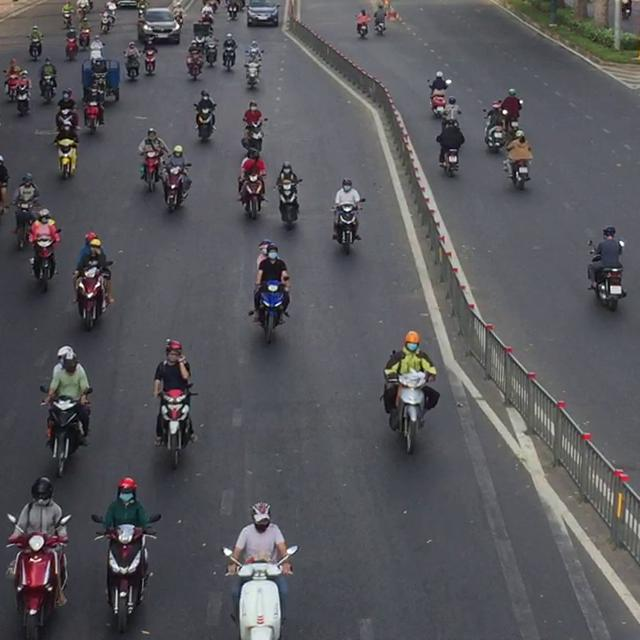Motorcycle: (90, 512, 161, 633), (5, 511, 71, 639), (221, 544, 298, 639), (38, 384, 92, 478), (383, 370, 431, 454), (153, 384, 197, 470), (72, 260, 114, 331), (586, 239, 626, 311), (252, 278, 290, 344), (27, 229, 60, 293), (330, 198, 365, 254), (160, 160, 192, 213), (273, 178, 303, 230), (11, 198, 39, 250), (237, 171, 266, 220), (502, 148, 532, 191), (138, 146, 163, 193), (53, 136, 79, 179), (482, 107, 505, 153), (436, 138, 462, 177), (192, 102, 217, 141), (241, 117, 267, 154), (82, 97, 105, 134), (427, 80, 448, 117), (243, 56, 261, 89), (122, 49, 140, 81), (38, 74, 57, 104), (14, 84, 31, 116), (441, 104, 461, 130), (3, 71, 20, 101), (64, 30, 79, 61), (143, 46, 157, 75), (28, 34, 43, 61), (221, 44, 236, 70), (99, 9, 114, 33), (204, 42, 218, 66), (75, 2, 91, 22), (78, 26, 91, 49), (61, 7, 73, 28)
